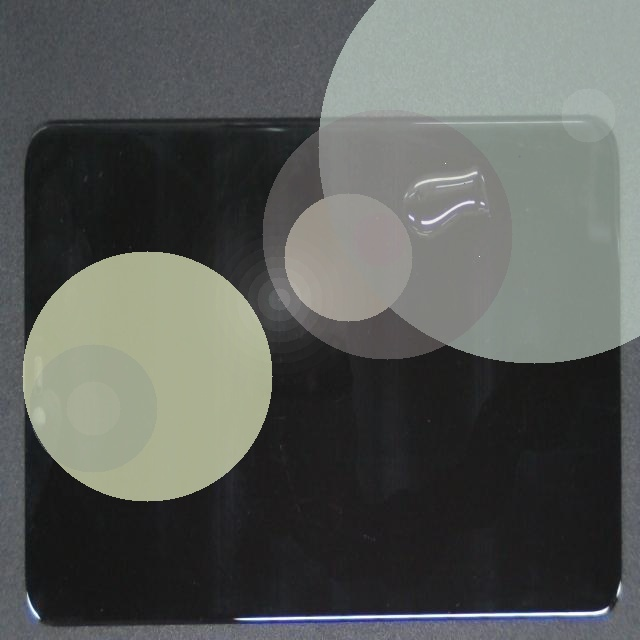oil: (245, 84, 640, 267)
